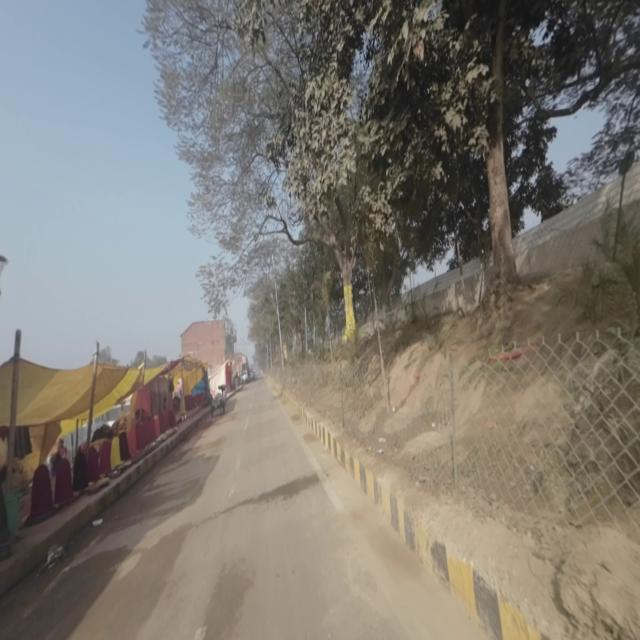Garbage: (40, 544, 70, 572), (91, 512, 105, 530)
